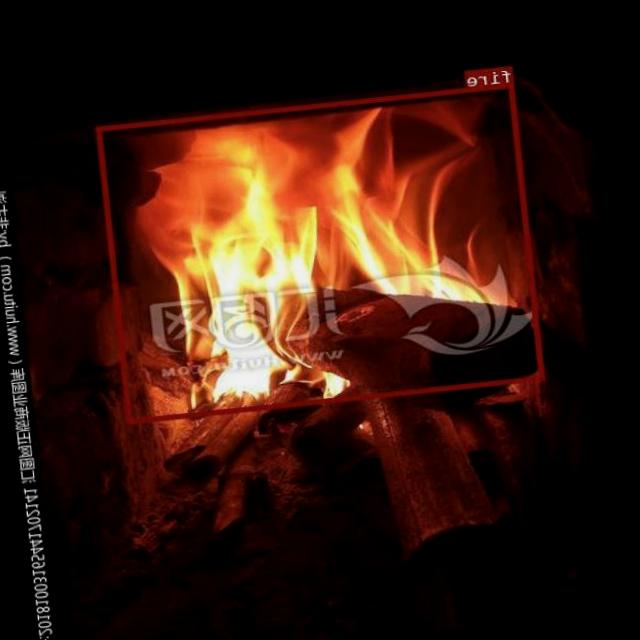fire: (97, 82, 546, 423)
